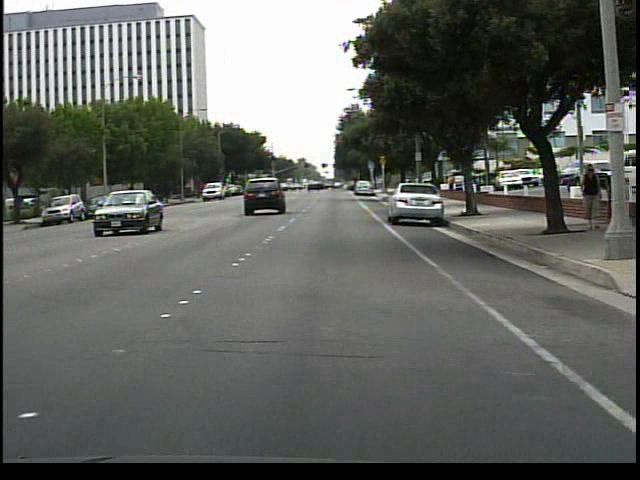person: (574, 158, 602, 233), (604, 160, 625, 229)
